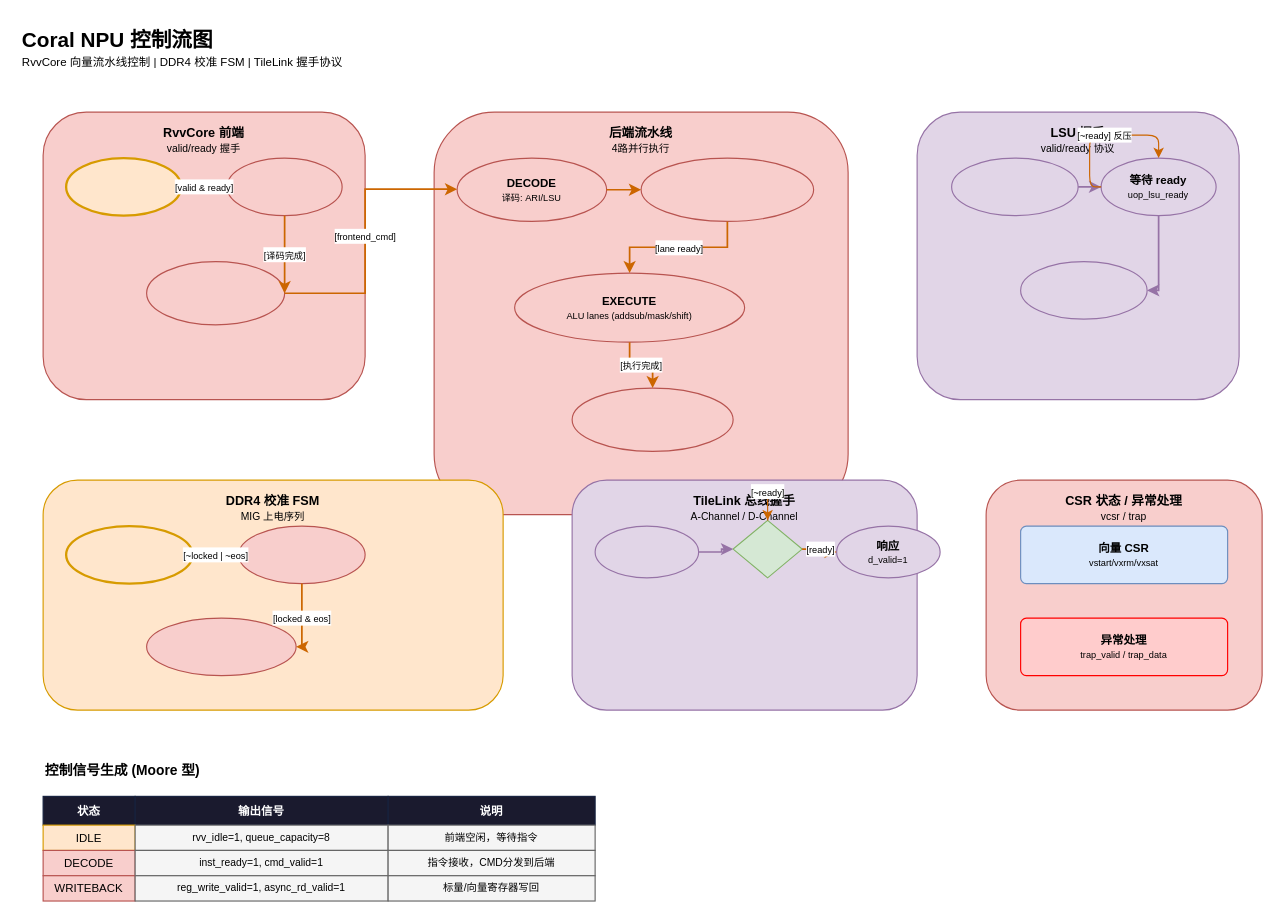
Image size: 1282x921. Some labels were removed from this diagram. The centre of each missing label's shape, as x and y in pixels:
DDR4 校准 init_calib_complete: (x=220, y=646)
DISPATCH 操作数分发 + 旁路: (x=727, y=189)
IDLE rvv_idle=1: (x=123, y=186)
LSU 完成 写回 vregfile: (x=1083, y=289)
LSU 请求 uop_lsu_valid: (x=1014, y=186)
WRITEBACK vregfile + ROB: (x=652, y=419)
上电复位 mig_sys_rst=1: (x=128, y=554)
等待 a_ready?: (x=767, y=548)
等待 PLL locked & eos: (x=301, y=554)
等待指令 inst_valid[3:0]: (x=284, y=186)
译码/分发 inst_ready[3:0]: (x=215, y=292)
请求 a_valid=1: (x=646, y=551)
